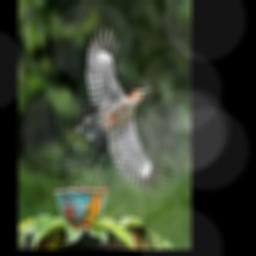Woodpecker: (79, 26, 168, 192)
